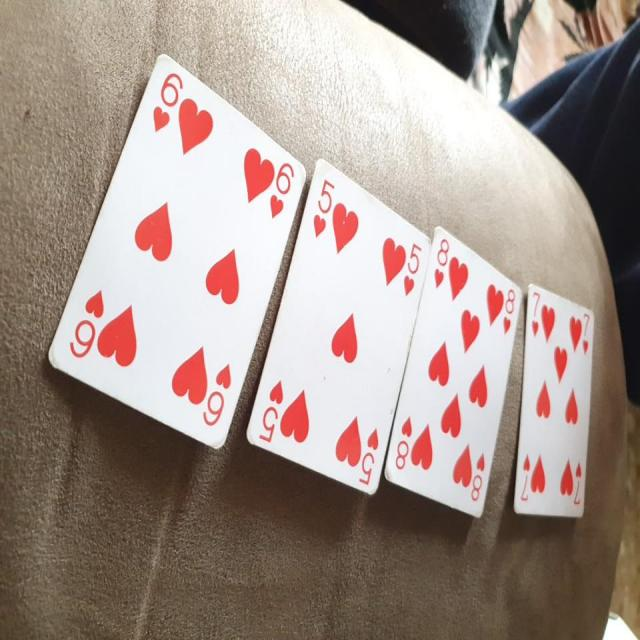5 Hearts: (237, 151, 432, 496)
6 Hearts: (42, 45, 311, 458)
7 Hearts: (508, 278, 609, 534)
8 Hearts: (386, 220, 523, 522)
